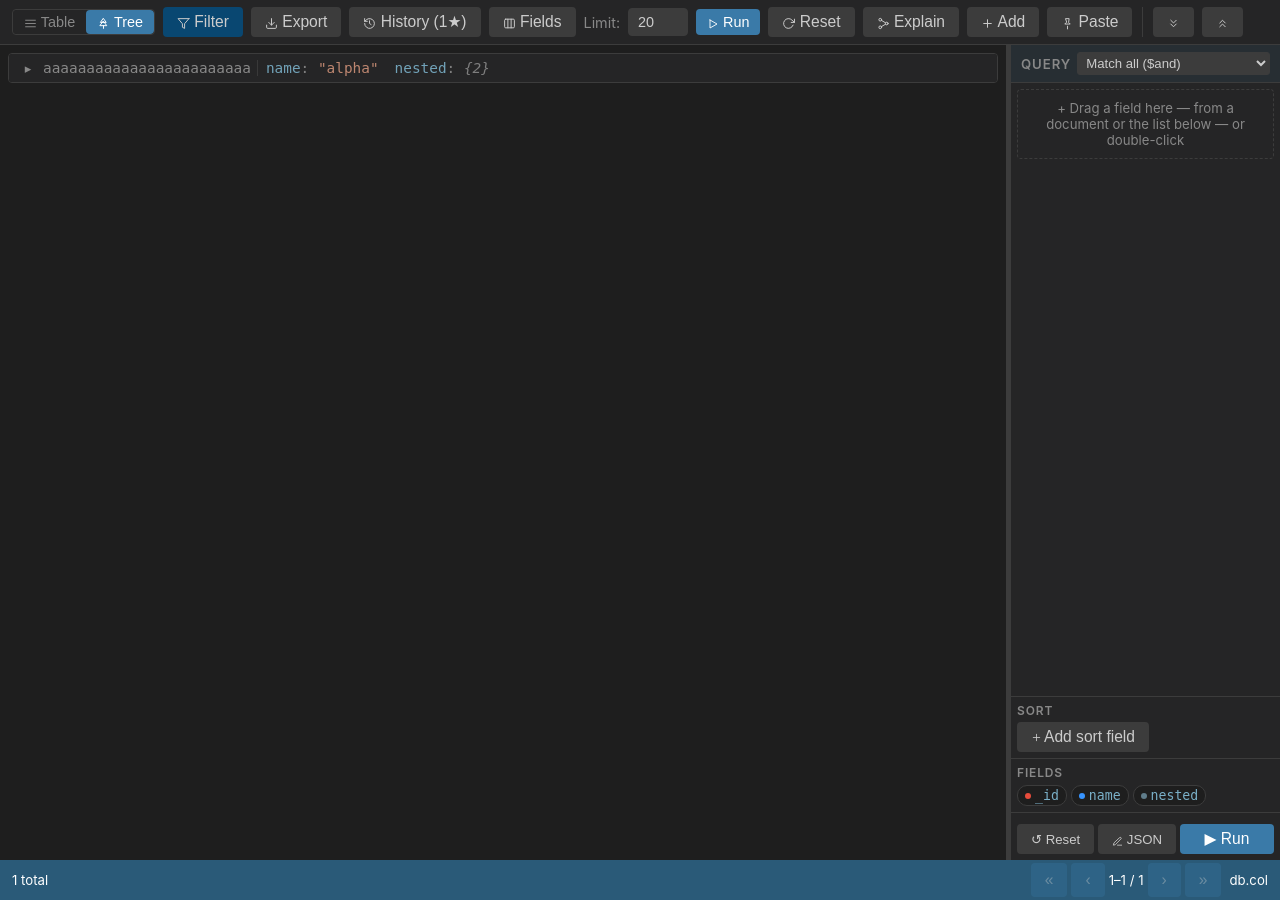
DocumentsView — query history › lists a saved query by name, apart from the history
The width and height of the screenshot is (1280, 900).
Click the button "History (1★)" at (415, 22), box [349,7,480,37]
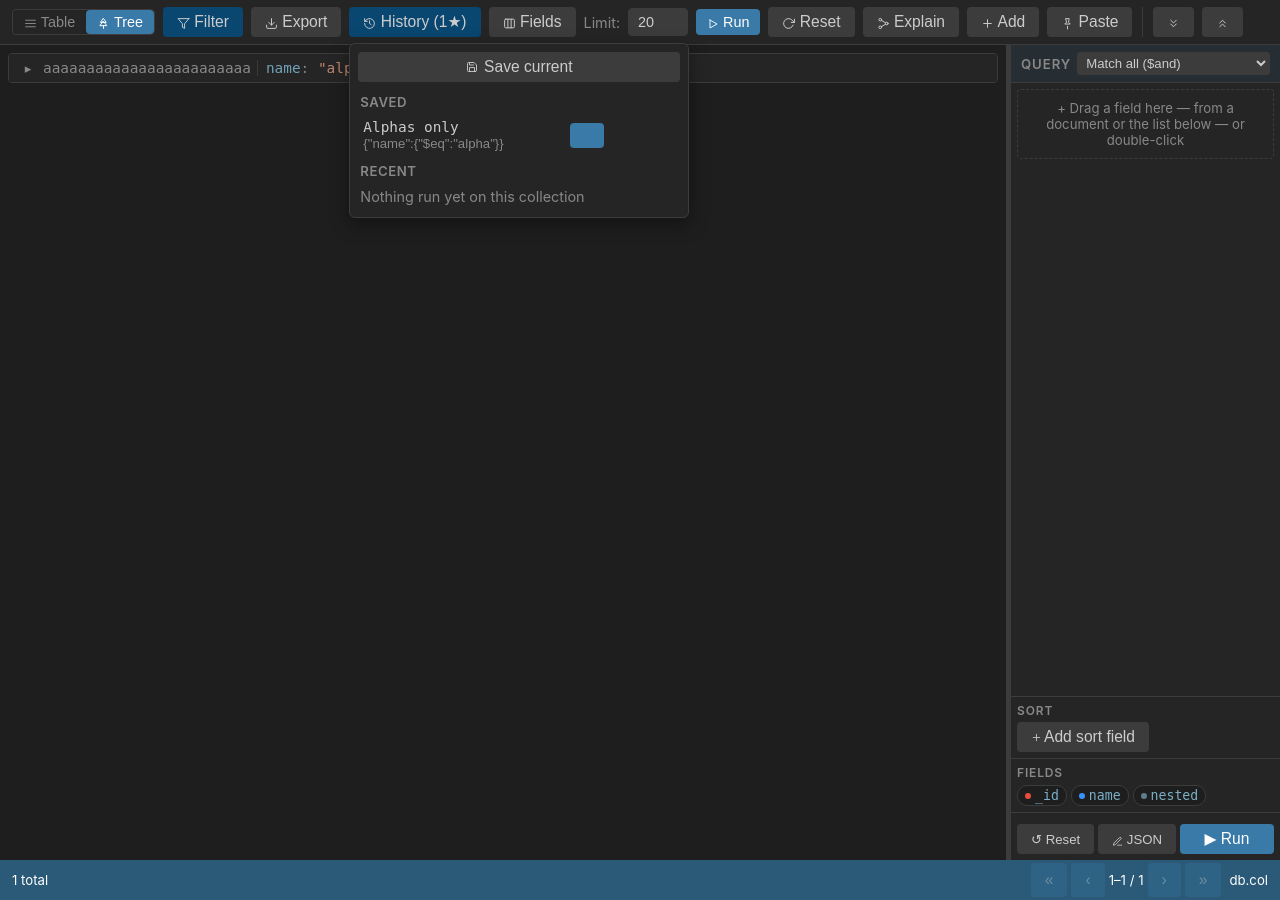
Result: the text "Saved" is shown at [360,94,407,110]
Result: the text "Alphas only" is shown at [363,119,459,135]
Result: the text "Nothing run yet on this collection" is shown at [360,188,585,205]
